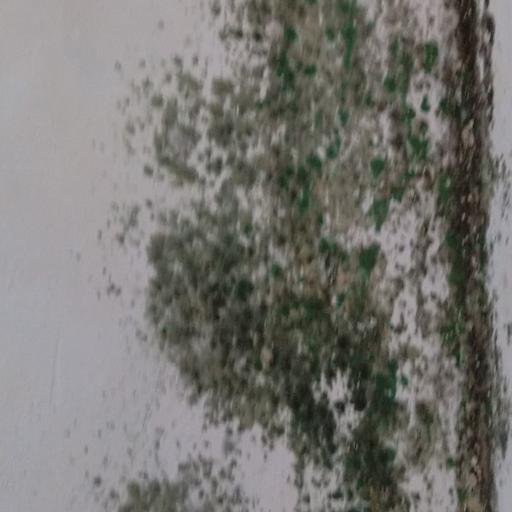algae: (105, 0, 512, 504)
